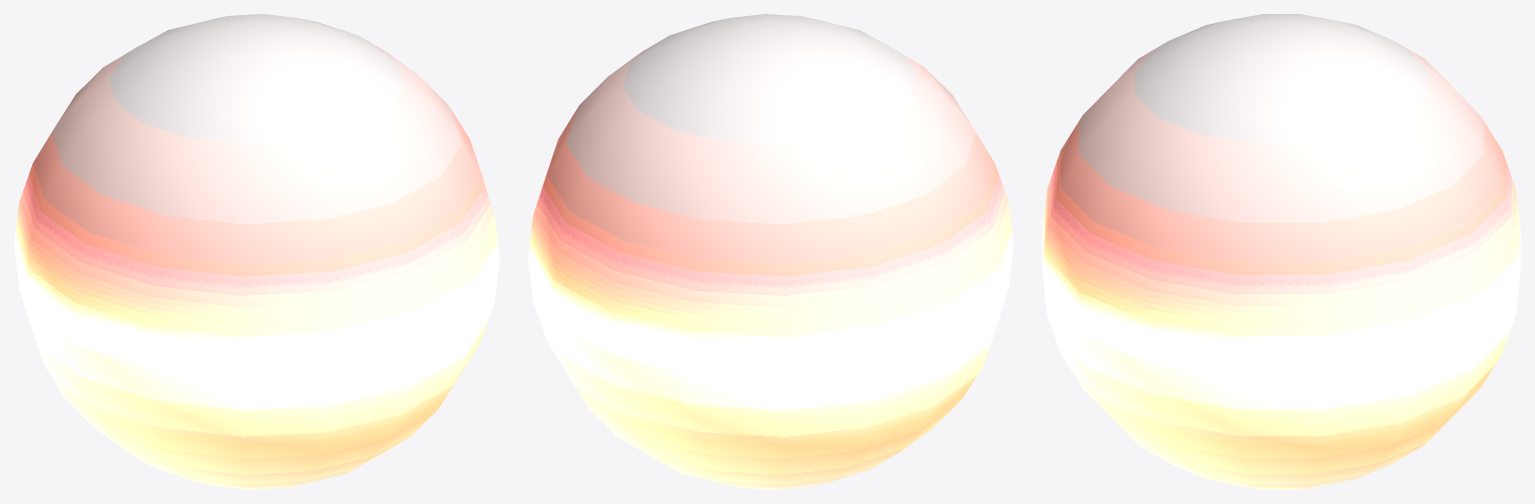
The model's file is MetaScreen_skytest2.glb.
3 views of the same model, side by side, from view 1: azimuth 30°, elevation 25°; view 2: azimuth 150°, elevation 25°; view 3: azimuth 270°, elevation 25° (orthographic).
Parts seen in each view (by area): view 1: Sphere; view 2: Sphere; view 3: Sphere.
Boxes of the visible parts, x1,y1,x2,y2 form: Sphere: (14,14,499,489); Sphere: (528,14,1013,489); Sphere: (1042,14,1520,489).
Size of the model in its own units: 312 by 310 by 312.
